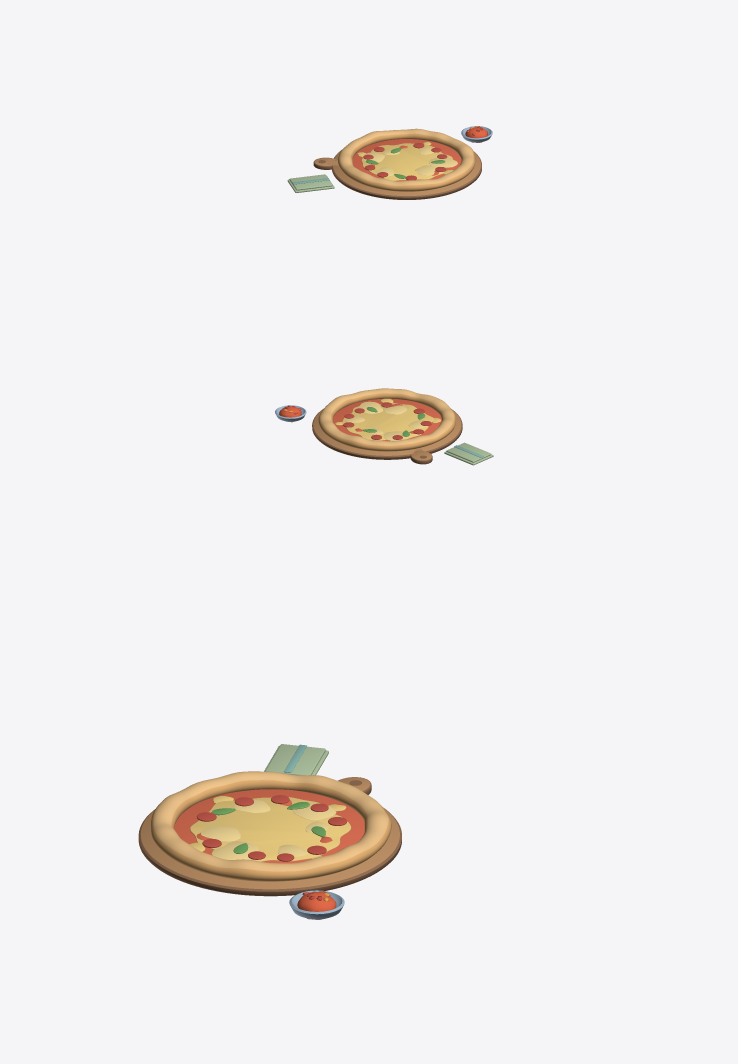
File: pizza_kit.glb
The picture shows the model from 3 angles, top to bottom: view 1: azimuth 30°, elevation 25°; view 2: azimuth 150°, elevation 25°; view 3: azimuth 270°, elevation 25°; orthographic projection. The views are drawn at different scales.
Parts seen in each view (by area): view 1: PIZZA_Crust, TABLE_Board, PIZZA_Cheese, PIZZA_Base, TABLE_Napkin; view 2: PIZZA_Crust, TABLE_Board, PIZZA_Cheese, PIZZA_Base, TABLE_Napkin; view 3: PIZZA_Crust, TABLE_Board, PIZZA_Cheese, PIZZA_Base, TABLE_Napkin, TABLE_ChilliDish.
Boxes of the visible parts, x1,y1,x2,y2 form: PIZZA_Crust: (338, 128, 475, 191); TABLE_Board: (313, 150, 481, 199); PIZZA_Cheese: (361, 143, 452, 180); PIZZA_Base: (352, 139, 461, 181); TABLE_Napkin: (287, 174, 334, 192); PIZZA_Crust: (318, 388, 455, 451); TABLE_Board: (312, 409, 462, 464); PIZZA_Cheese: (342, 403, 433, 440); PIZZA_Base: (333, 398, 441, 441); TABLE_Napkin: (444, 442, 493, 465); PIZZA_Crust: (151, 771, 391, 881); TABLE_Board: (138, 777, 401, 896); PIZZA_Cheese: (190, 797, 351, 861); PIZZA_Base: (174, 789, 364, 863); TABLE_Napkin: (264, 744, 328, 775); TABLE_ChilliDish: (289, 890, 344, 919).
Size of the model in its own units: 57.2 by 1.79 by 39.6.
1 material, 1 textured.
